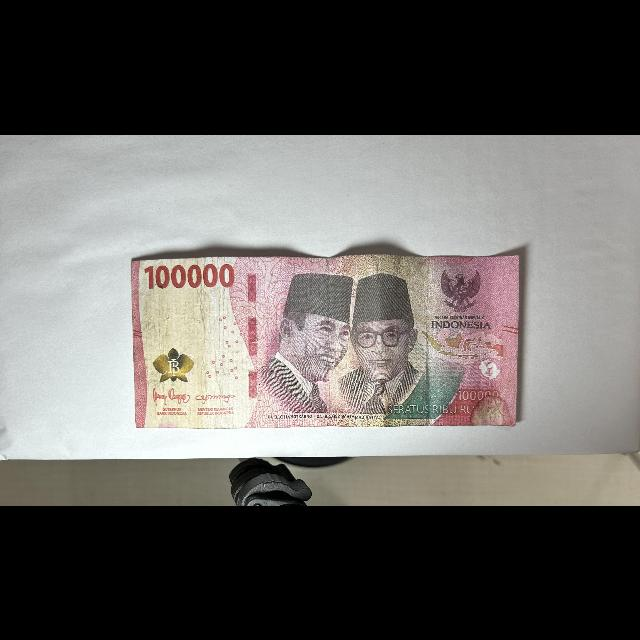Palsu-100k: (131, 253, 522, 430)
Tinta-Palsu-100k: (152, 347, 195, 384)
